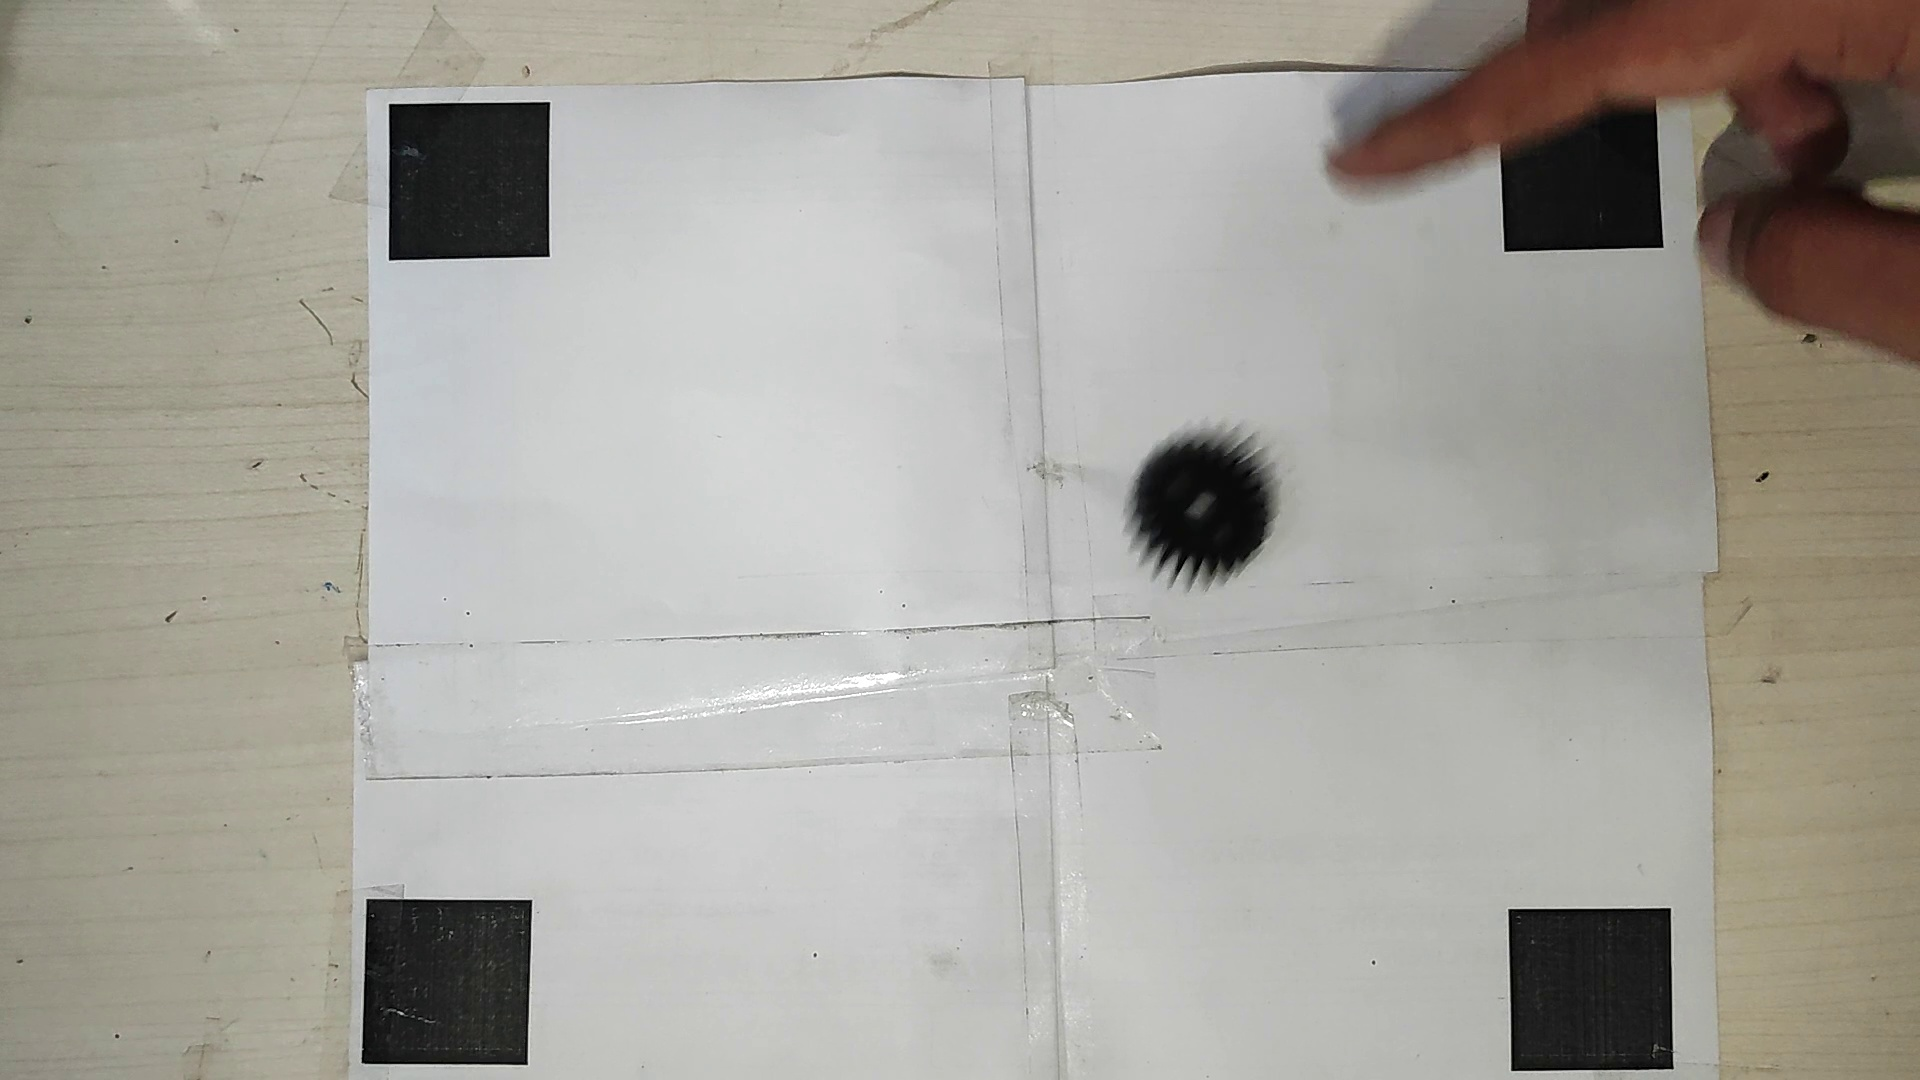Gear: (1125, 433, 1286, 585)
